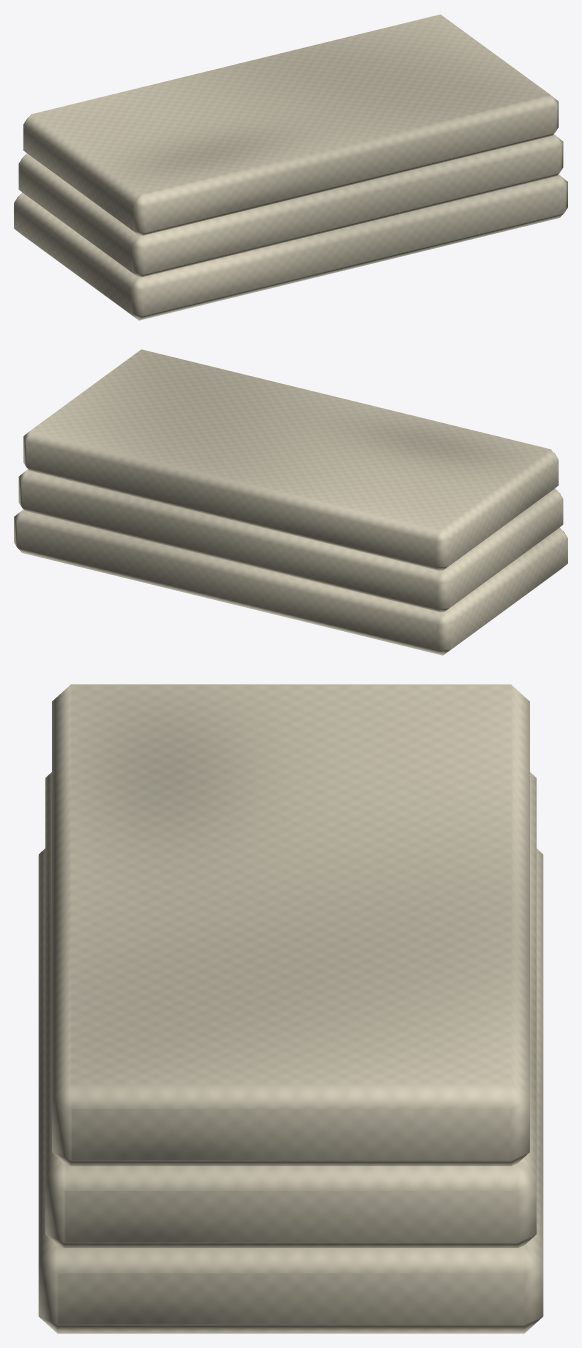
Rendered from Hold_Towel.fbx.
3 views of the same model, one above another, from view 1: azimuth 30°, elevation 25°; view 2: azimuth 150°, elevation 25°; view 3: azimuth 270°, elevation 25° (orthographic). The views are drawn at different scales.
Visible parts, largest first — view 1: Hold_Towel; view 2: Hold_Towel; view 3: Hold_Towel.
Part boxes in pixels (bbox=[...]): Hold_Towel: bbox=[14, 14, 567, 320]; Hold_Towel: bbox=[14, 349, 567, 655]; Hold_Towel: bbox=[38, 684, 543, 1333].
Bounding box in the file's own units: 0.3 × 0.08 × 0.15.
1 material, 1 textured.
